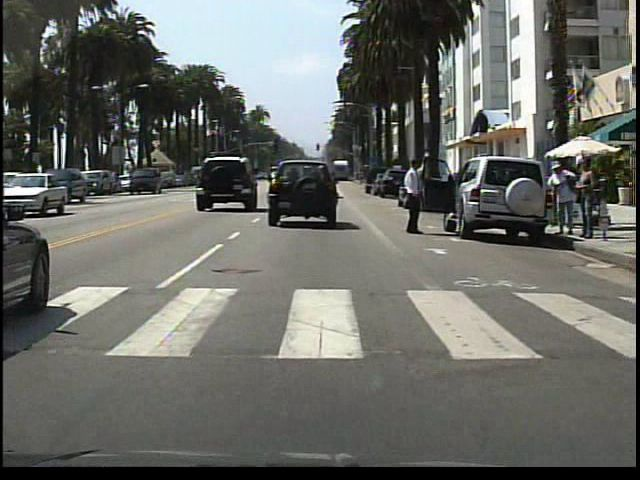person: (400, 152, 434, 242), (545, 155, 575, 241), (575, 154, 597, 243)
